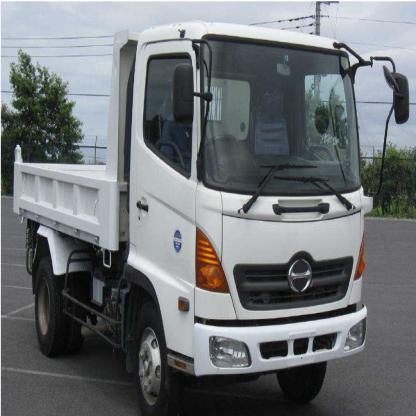dump_truck: (8, 10, 384, 406)
